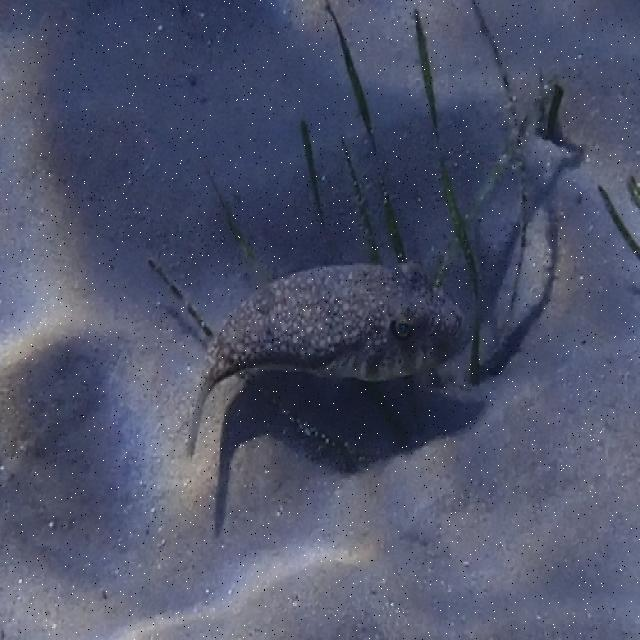Balik: (187, 264, 463, 455)
